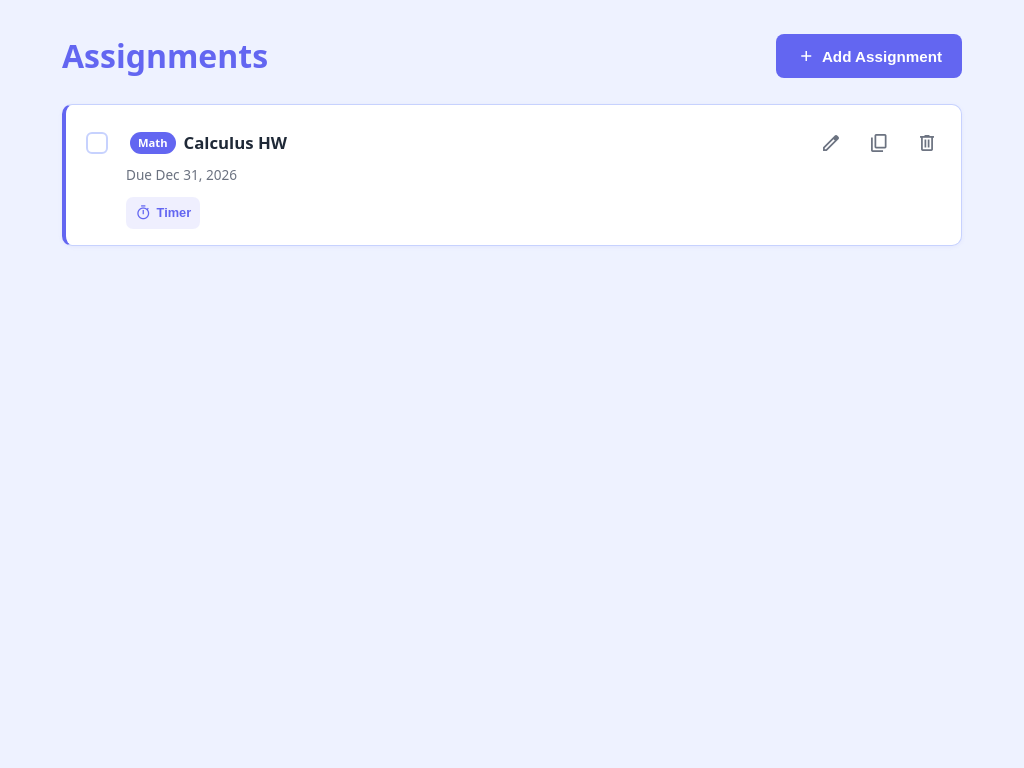
Scenario: Assignments — delete modal › opens delete confirmation modal when Delete is clicked
Click the button named "delete calculus hw": (927, 143) [905,121,949,165]
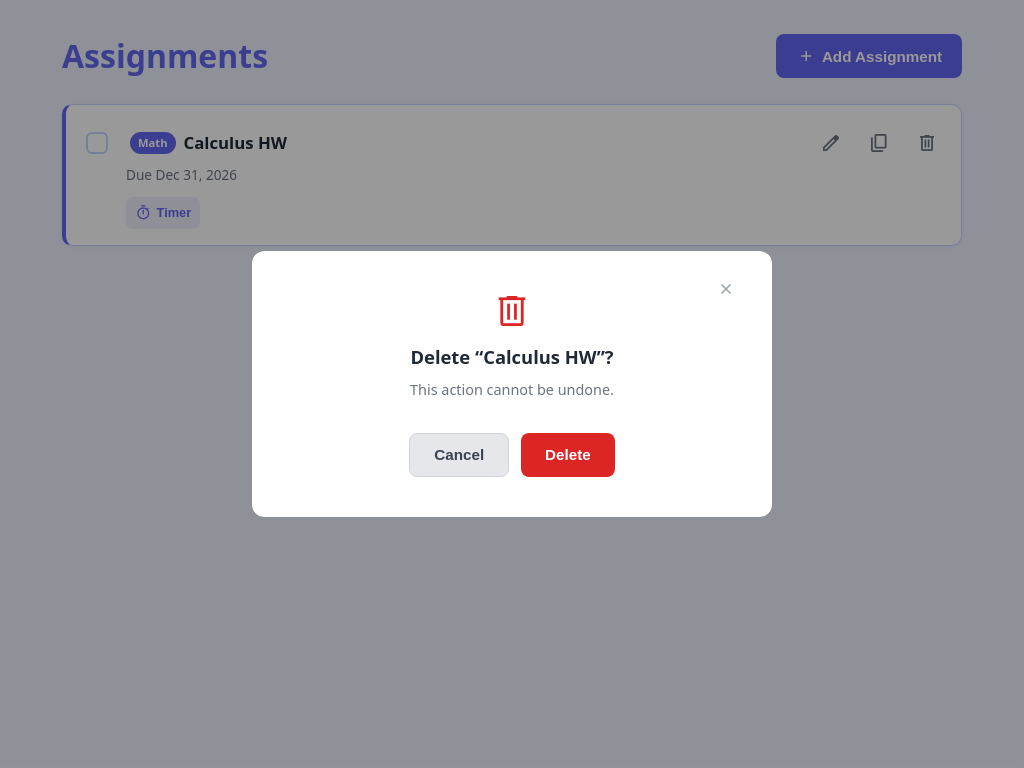
Now the text "This action cannot be undone." is shown, box [410,380,614,399]
